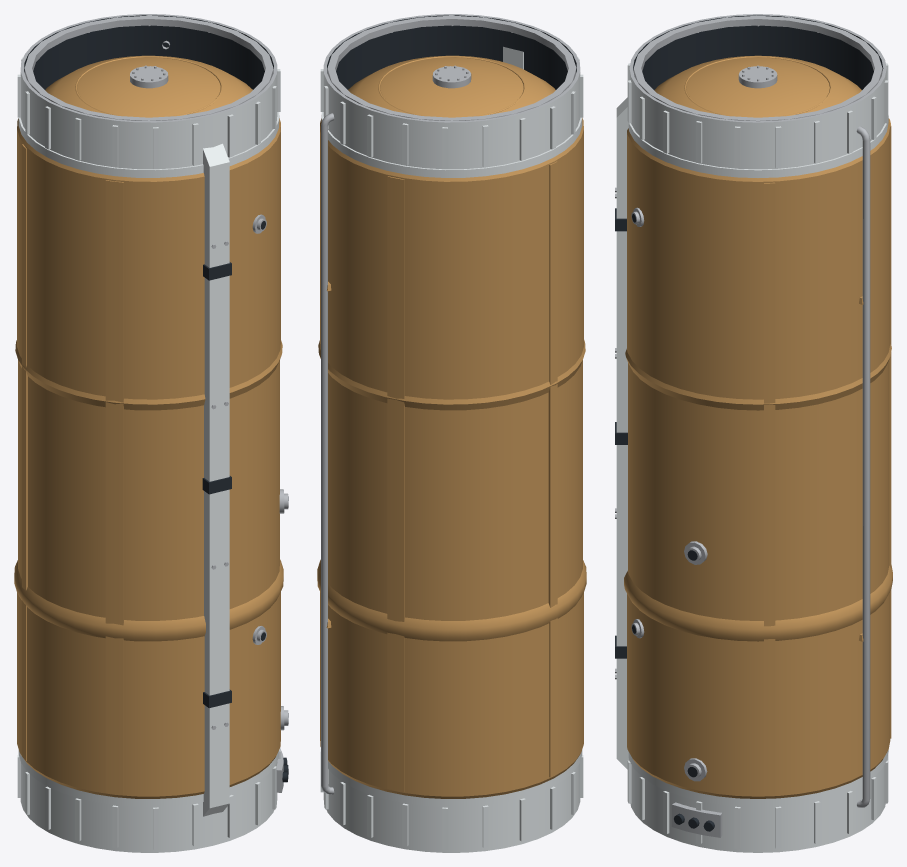
Rendered from tank_s2_xs_hydrolox.glb.
3 views of the same model, side by side, from view 1: azimuth 30°, elevation 25°; view 2: azimuth 150°, elevation 25°; view 3: azimuth 270°, elevation 25° (orthographic).
Parts seen in each view (by area): view 1: tank_s2_xs_hydrolox_mesh; view 2: tank_s2_xs_hydrolox_mesh; view 3: tank_s2_xs_hydrolox_mesh.
Part boxes in pixels (box(x1,y1,x2,y2)): tank_s2_xs_hydrolox_mesh: box(14, 14, 288, 852); tank_s2_xs_hydrolox_mesh: box(317, 14, 586, 852); tank_s2_xs_hydrolox_mesh: box(615, 14, 892, 852).
Bounding box in the file's own units: 1.57 × 4.7 × 1.62.
